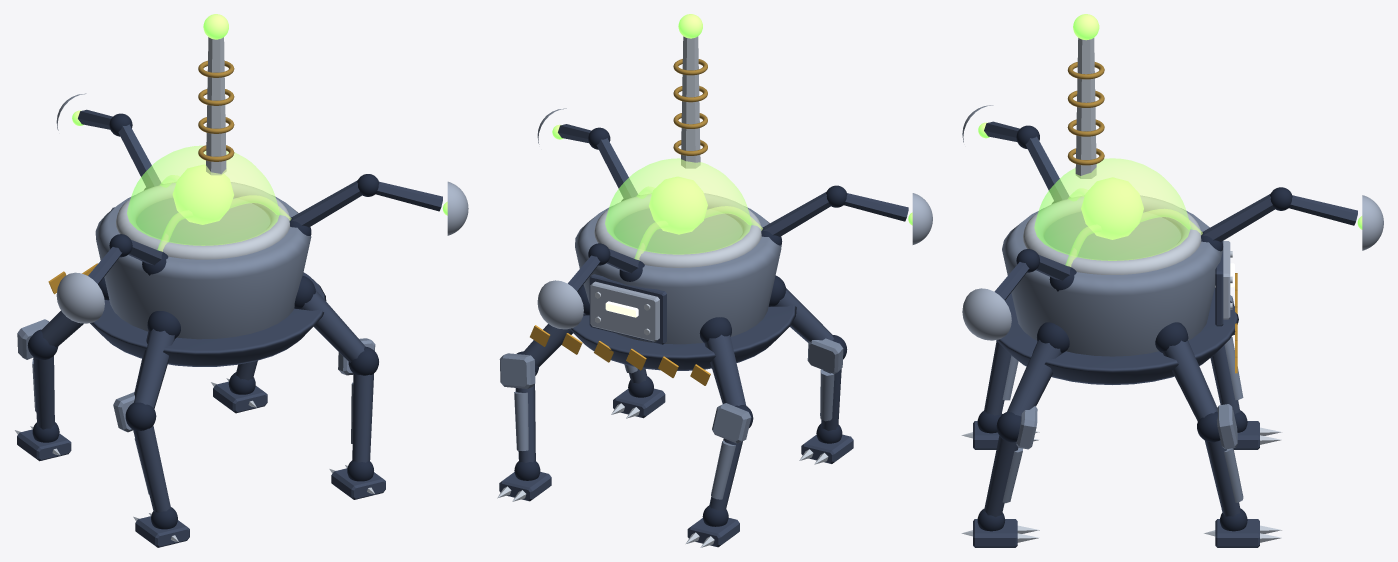
Rendered from enemy_mender.glb.
3 views of the same model, side by side, from view 1: azimuth 30°, elevation 25°; view 2: azimuth 150°, elevation 25°; view 3: azimuth 270°, elevation 25° (orthographic). The views are drawn at different scales.
Parts seen in each view (by area): view 1: mender_body, mender_dome, mender_body_skirt, mender_dome_ring, mender_dome_core, mender_mast, mender_dish1, mender_leg_bl_thigh, mender_leg_br_shin, mender_leg_bl_shin, mender_leg_br_thigh, mender_leg_fl_shin (+14 smaller); view 2: mender_body, mender_dome, mender_body_skirt, mender_dome_ring, mender_front_face, mender_dome_core, mender_mast, mender_dish2, mender_leg_fl_thigh, mender_hazard, mender_leg_fl_knee_cap, mender_leg_fr_knee_cap (+19 smaller); view 3: mender_body, mender_dome, mender_body_skirt, mender_dome_ring, mender_dome_core, mender_mast, mender_dish0, mender_leg_fr_thigh, mender_leg_br_thigh, mender_leg_br_shin, mender_leg_fr_shin, mender_arm_a2 (+22 smaller).
Boxes of the visible parts, x1=… form: mender_body: x1=95, y1=195, x2=311, y2=339; mender_dome: x1=127, y1=145, x2=279, y2=245; mender_body_skirt: x1=90, y1=272, x2=326, y2=366; mender_dome_ring: x1=116, y1=182, x2=290, y2=259; mender_dome_core: x1=173, y1=164, x2=233, y2=224; mender_mast: x1=206, y1=37, x2=226, y2=174; mender_dish1: x1=56, y1=272, x2=104, y2=323; mender_leg_bl_thigh: x1=134, y1=329, x2=174, y2=408; mender_leg_br_shin: x1=352, y1=373, x2=373, y2=462; mender_leg_bl_shin: x1=133, y1=425, x2=170, y2=512; mender_leg_br_thigh: x1=299, y1=290, x2=365, y2=362; mender_leg_fl_shin: x1=33, y1=356, x2=54, y2=429; mender_body: x1=575, y1=206, x2=781, y2=344; mender_dome: x1=605, y1=158, x2=751, y2=254; mender_body_skirt: x1=569, y1=304, x2=796, y2=370; mender_dome_ring: x1=594, y1=193, x2=761, y2=267; mender_front_face: x1=590, y1=281, x2=659, y2=341; mender_dome_core: x1=649, y1=177, x2=707, y2=234; mender_mast: x1=681, y1=36, x2=700, y2=168; mender_dish2: x1=537, y1=280, x2=583, y2=329; mender_leg_fl_thigh: x1=704, y1=334, x2=746, y2=406; mender_hazard: x1=530, y1=325, x2=710, y2=385; mender_leg_fl_knee_cap: x1=712, y1=403, x2=751, y2=443; mender_leg_fr_knee_cap: x1=499, y1=353, x2=535, y2=388; mender_body: x1=1002, y1=208, x2=1223, y2=356; mender_dome: x1=1034, y1=158, x2=1190, y2=260; mender_body_skirt: x1=996, y1=287, x2=1238, y2=384; mender_dome_ring: x1=1023, y1=195, x2=1201, y2=274; mender_dome_core: x1=1081, y1=177, x2=1143, y2=239; mender_mast: x1=1075, y1=38, x2=1096, y2=178; mender_dish0: x1=962, y1=288, x2=1011, y2=340; mender_leg_fr_thigh: x1=1162, y1=340, x2=1217, y2=421; mender_leg_br_thigh: x1=1007, y1=340, x2=1062, y2=416; mender_leg_br_shin: x1=984, y1=436, x2=1018, y2=517; mender_leg_fr_shin: x1=1204, y1=440, x2=1240, y2=516; mender_arm_a2: x1=1203, y1=194, x2=1274, y2=242.
Size of the model in its own units: 1.72 by 1.9 by 1.52.
